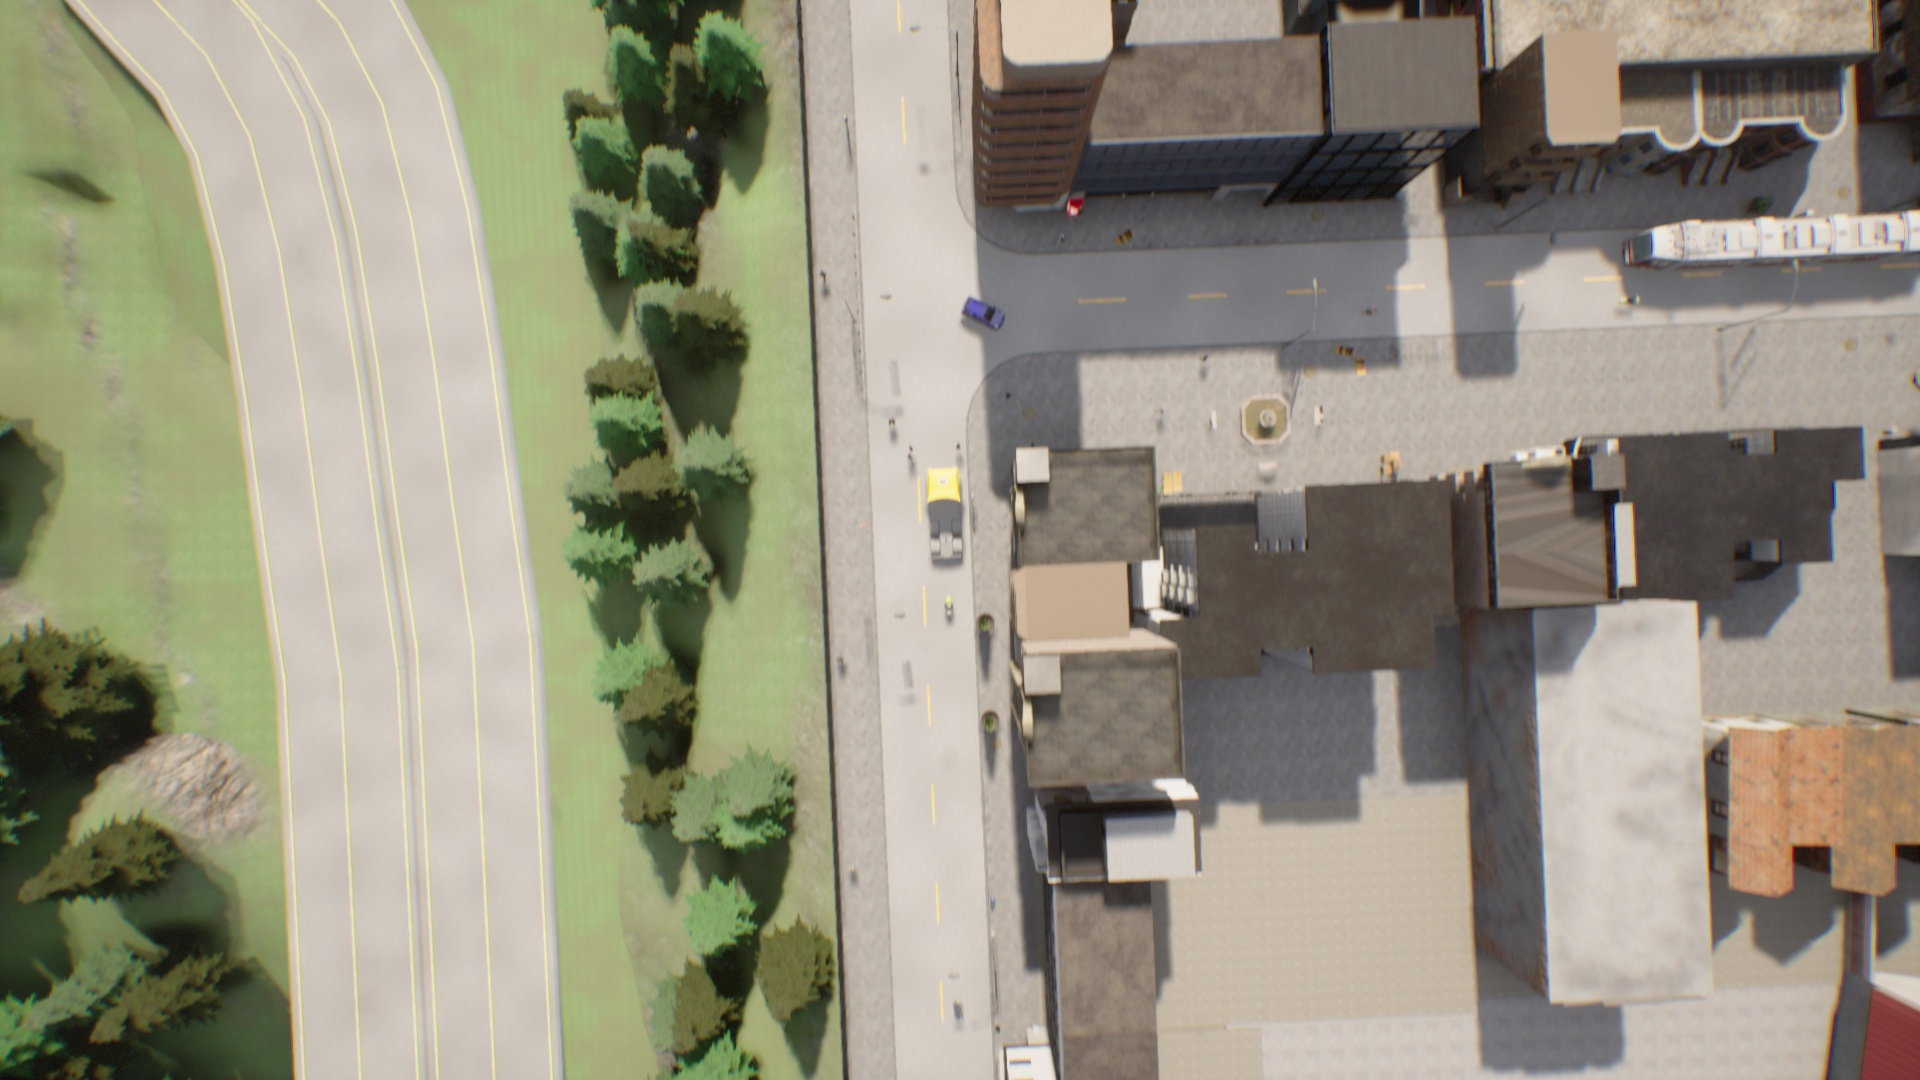Bicycle: (955, 997, 963, 1023)
Bus: (1609, 216, 1920, 268)
Car: (960, 299, 1012, 334)
Motorcycle: (946, 592, 959, 627)
Truck: (921, 467, 968, 561)
